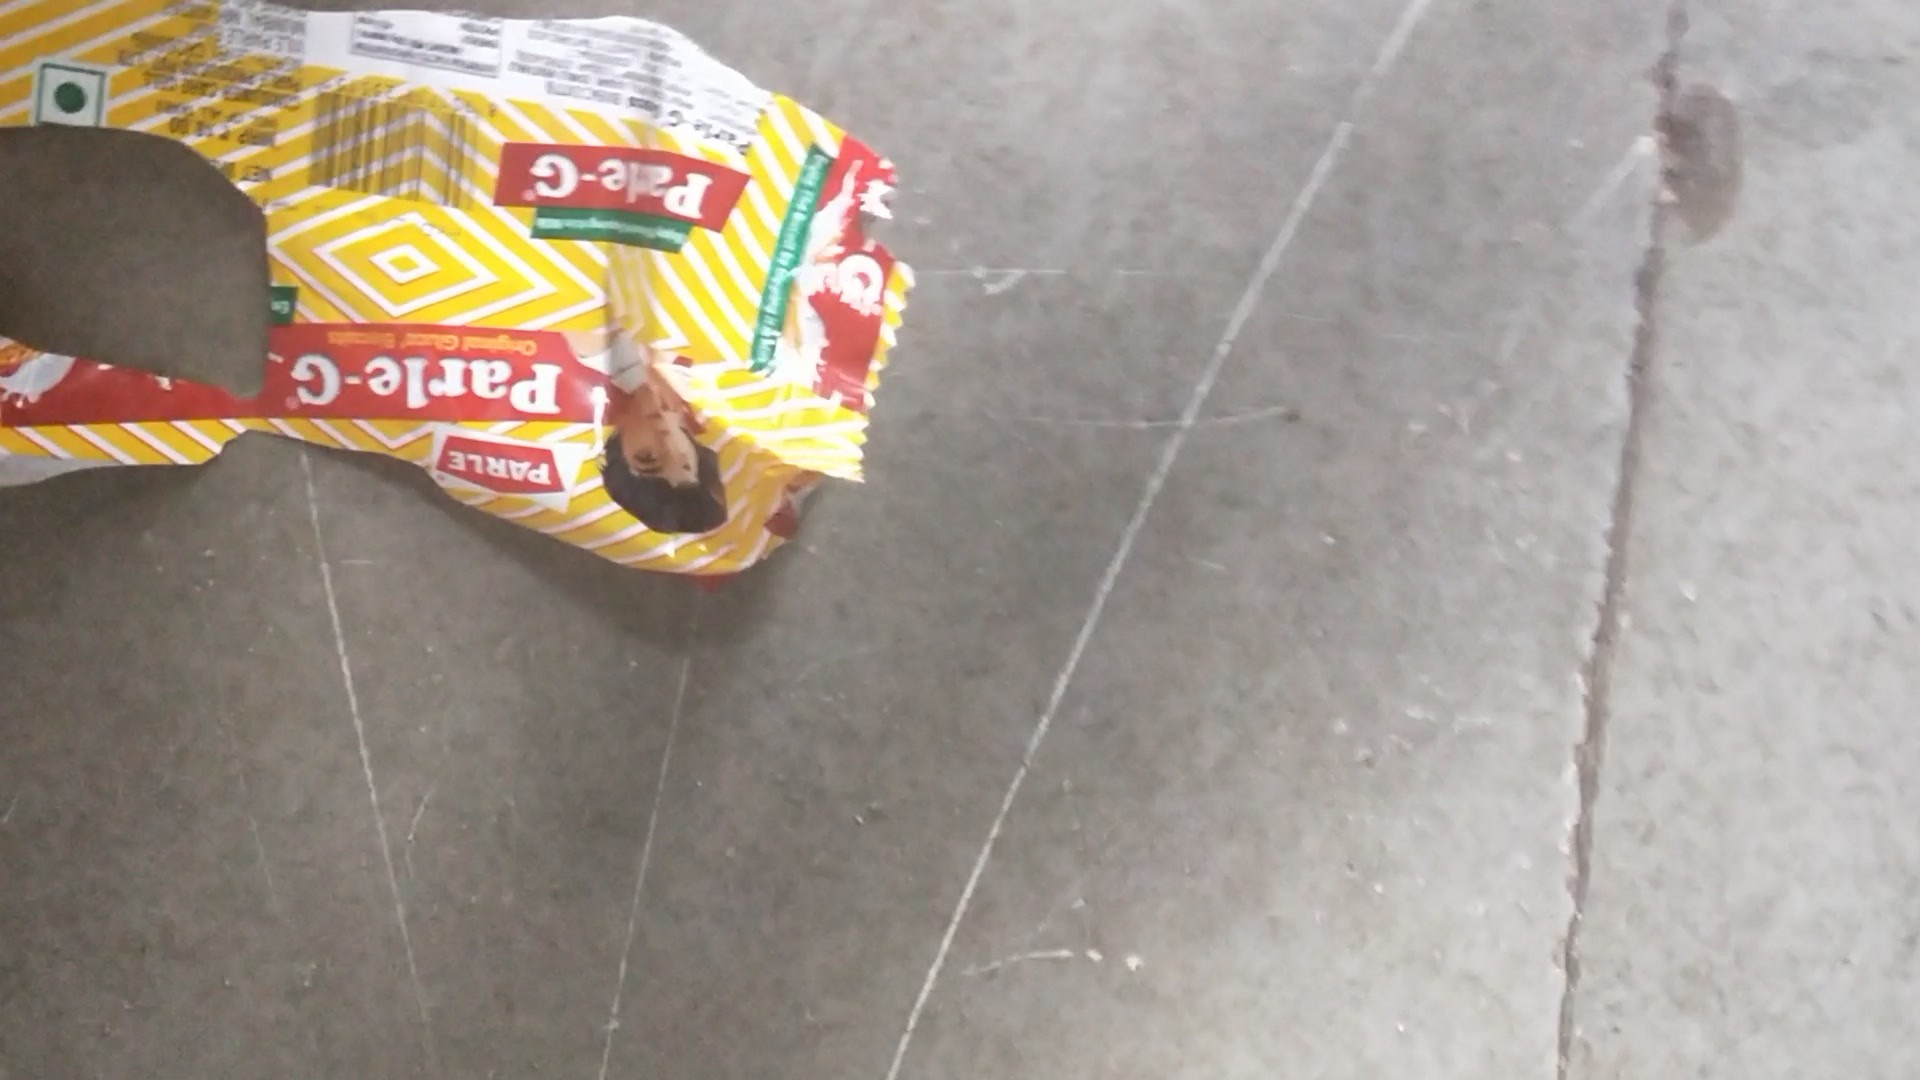parle-g-b: (26, 26, 847, 535)
